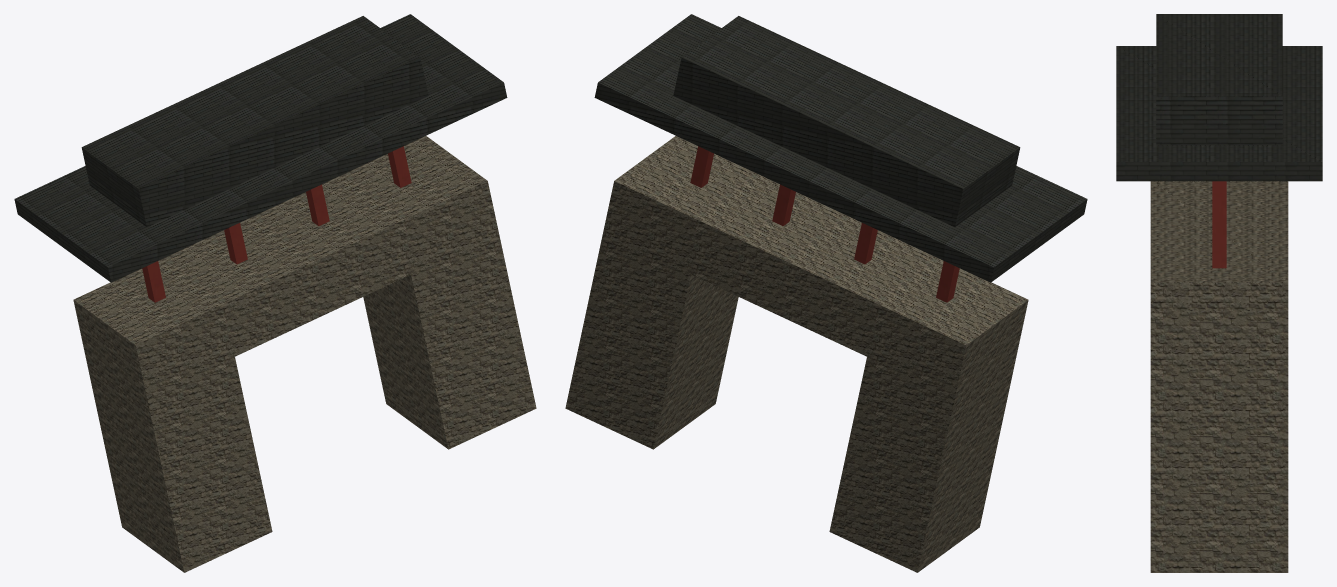
File: crossing_tilted_gate_01.glb
The picture shows the model from 3 angles, left to right: view 1: azimuth 30°, elevation 25°; view 2: azimuth 150°, elevation 25°; view 3: azimuth 270°, elevation 25°; orthographic projection. The views are drawn at different scales.
Parts seen in each view (by area): view 1: crossing_tilted_gate_01; view 2: crossing_tilted_gate_01; view 3: crossing_tilted_gate_01.
Part boxes in pixels (x1,y1,x2,y2): crossing_tilted_gate_01: (14, 14, 536, 572); crossing_tilted_gate_01: (565, 14, 1087, 572); crossing_tilted_gate_01: (1116, 14, 1322, 572).
Size of the model in its own units: 9.87 by 9.67 by 3.6.
Materials: 3 (3 with a texture image).
